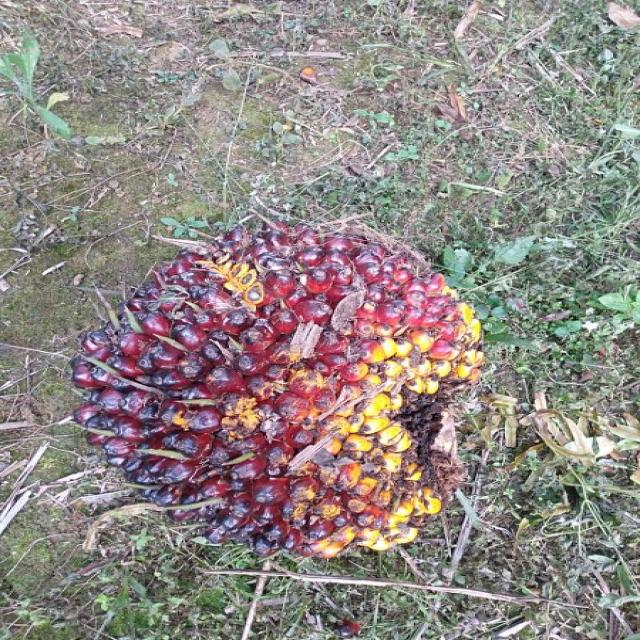fraksi 1: (42, 128, 542, 594)
